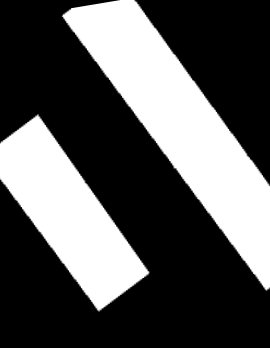parkingspot: (62, 0, 270, 291), (0, 115, 149, 311)
